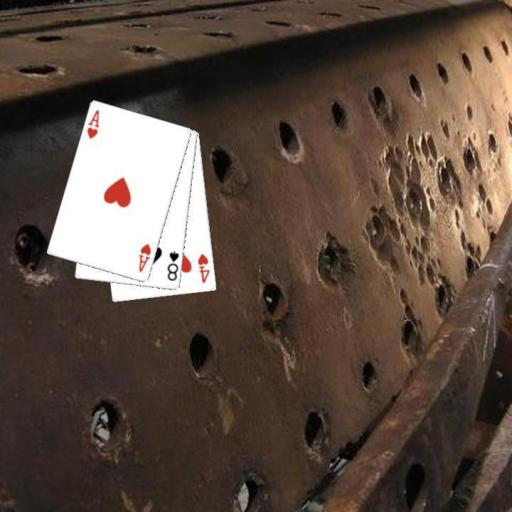card-corner: (164, 248, 181, 282), (136, 240, 153, 274), (84, 106, 101, 140), (195, 251, 211, 284)
